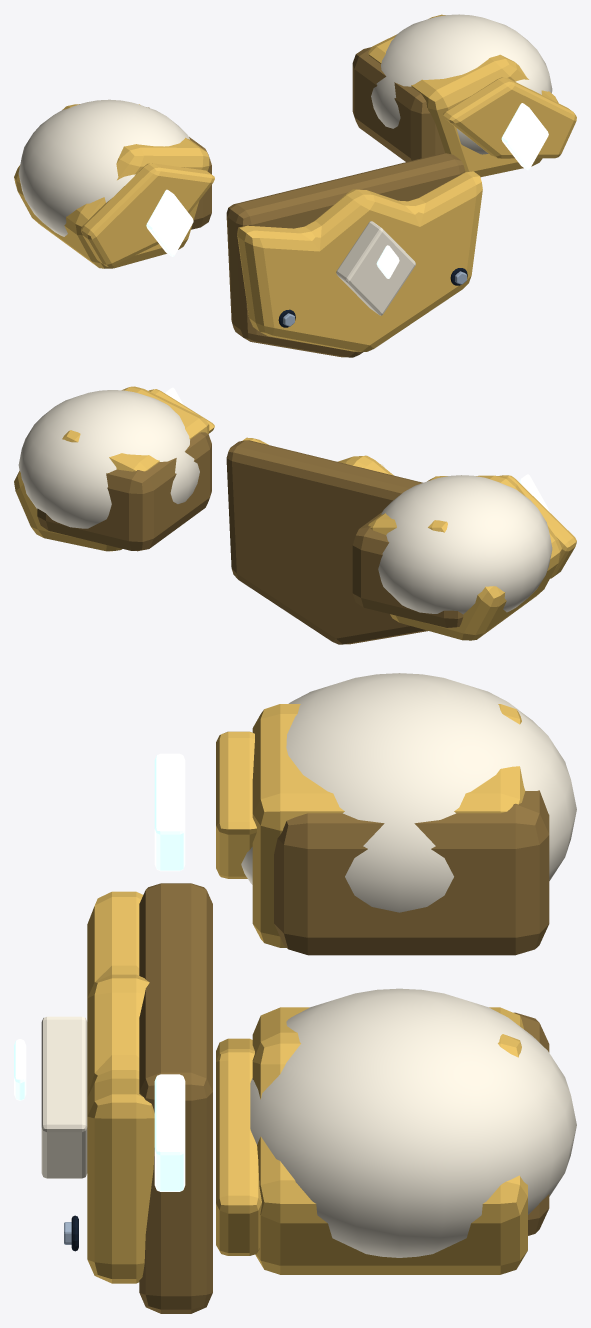
The model's file is prism_shell.glb.
The picture shows the model from 3 angles, top to bottom: view 1: azimuth 30°, elevation 25°; view 2: azimuth 150°, elevation 25°; view 3: azimuth 270°, elevation 25°; orthographic projection. The views are drawn at different scales.
Visible parts, largest first — view 1: ModuleArmor; view 2: ModuleArmor; view 3: ModuleArmor.
Boxes of the visible parts, left/top/right/bottom form: ModuleArmor: left=14, top=14, right=576, bottom=357; ModuleArmor: left=14, top=386, right=576, bottom=644; ModuleArmor: left=14, top=673, right=576, bottom=1313.
Size of the model in its own units: 1.77 by 0.8025 by 0.92.
